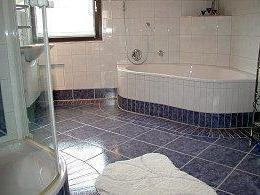Ducha: (0, 0, 59, 194)
